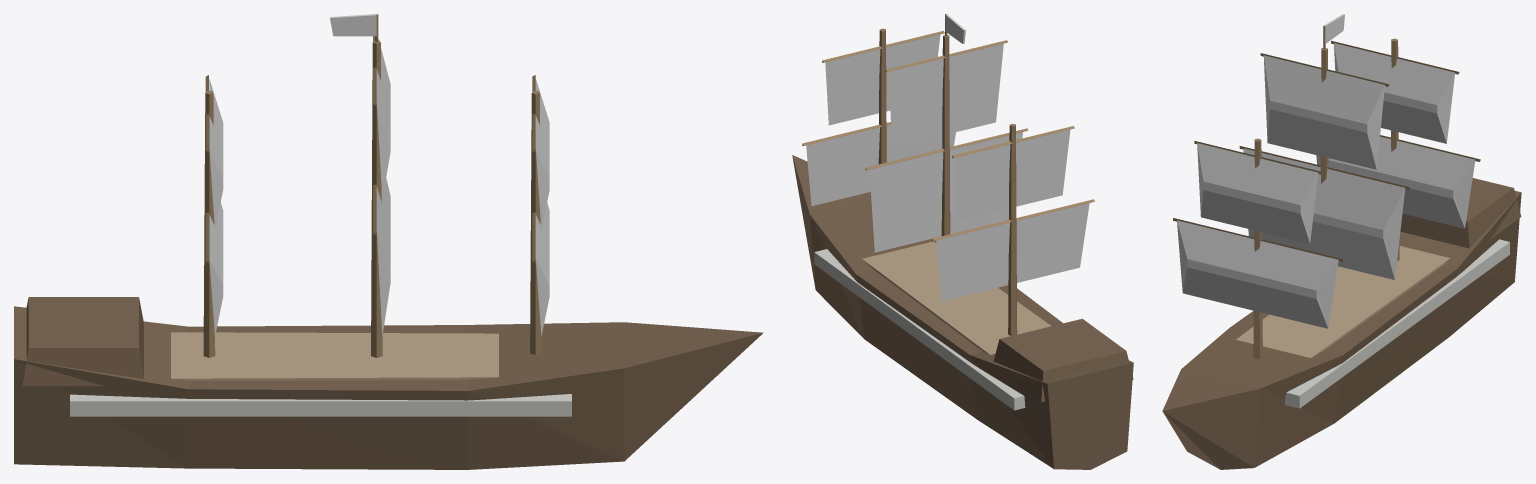
File: ship-of-the-line.glb
3 renders of one model, left to right at view 1: azimuth 30°, elevation 25°; view 2: azimuth 150°, elevation 25°; view 3: azimuth 270°, elevation 25°, orthographic. The views are drawn at different scales.
Parts seen in each view (by area): view 1: LOD0; view 2: LOD0; view 3: LOD0.
Part boxes in pixels (x1,y1,x2,y2): LOD0: (14, 14, 763, 469); LOD0: (792, 14, 1133, 469); LOD0: (1162, 14, 1521, 469).
Size of what is drawn, in the model's own units: 2.44 by 1.74 by 1.54.
